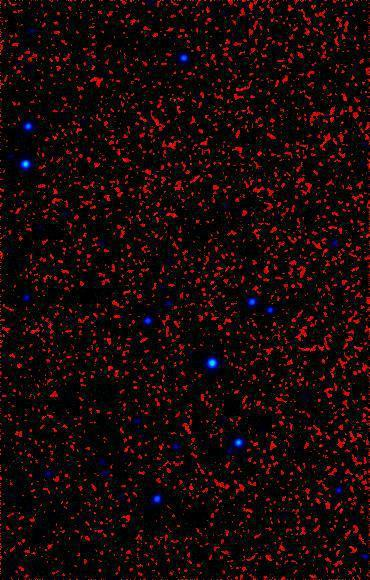star: (8, 148, 38, 178)
